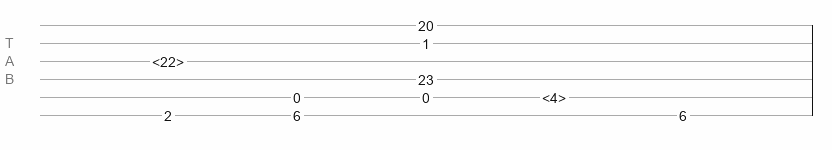0: (293, 90, 301, 100), (422, 90, 430, 100)
1: (422, 36, 430, 46)
2: (164, 108, 172, 118)
20: (418, 18, 434, 28)
23: (418, 72, 434, 82)
6: (293, 108, 301, 118), (679, 108, 687, 118)
harmonic: (152, 54, 184, 64), (542, 90, 566, 100)
